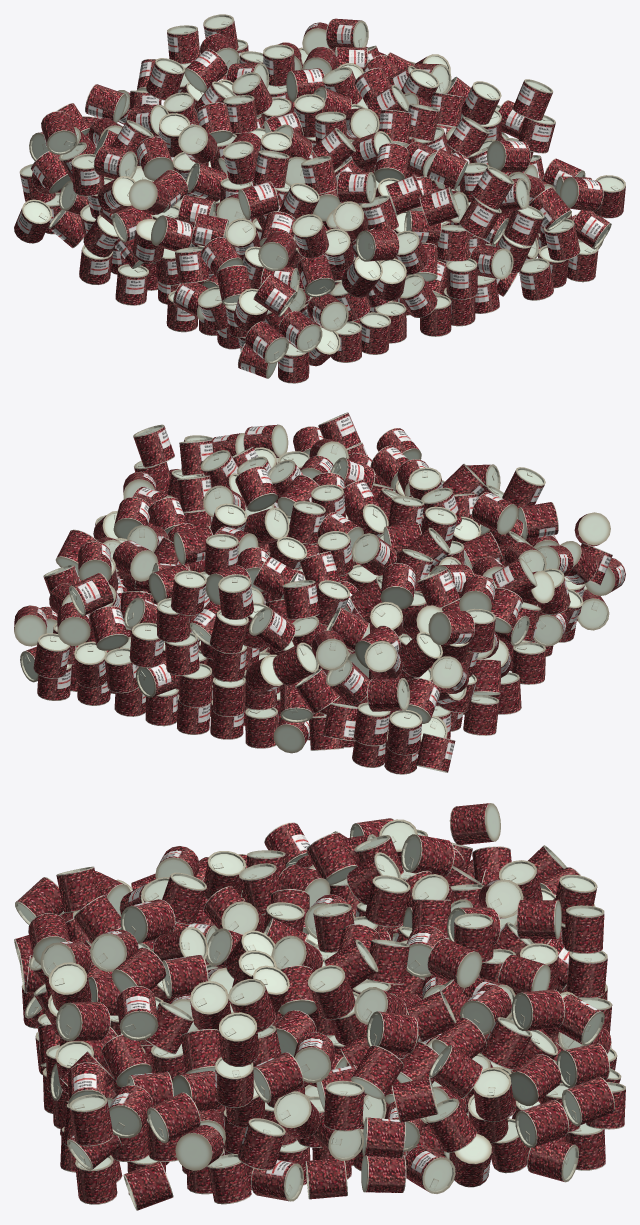
Rendered from piled cans3.fbx.
3 renders of one model, top to bottom at view 1: azimuth 30°, elevation 25°; view 2: azimuth 150°, elevation 25°; view 3: azimuth 270°, elevation 25°, orthographic. The views are drawn at different scales.
Parts seen in each view (by area): view 1: Beans.002; view 2: Beans.002; view 3: Beans.002.
Boxes of the visible parts, x1,y1,x2,y2 form: Beans.002: [14, 14, 625, 383]; Beans.002: [14, 412, 625, 774]; Beans.002: [14, 803, 625, 1210].
Bounding box in the file's own units: 504 × 189 × 505.
